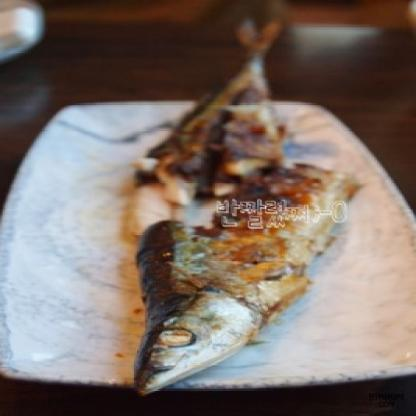Peixe: (58, 17, 332, 398)
